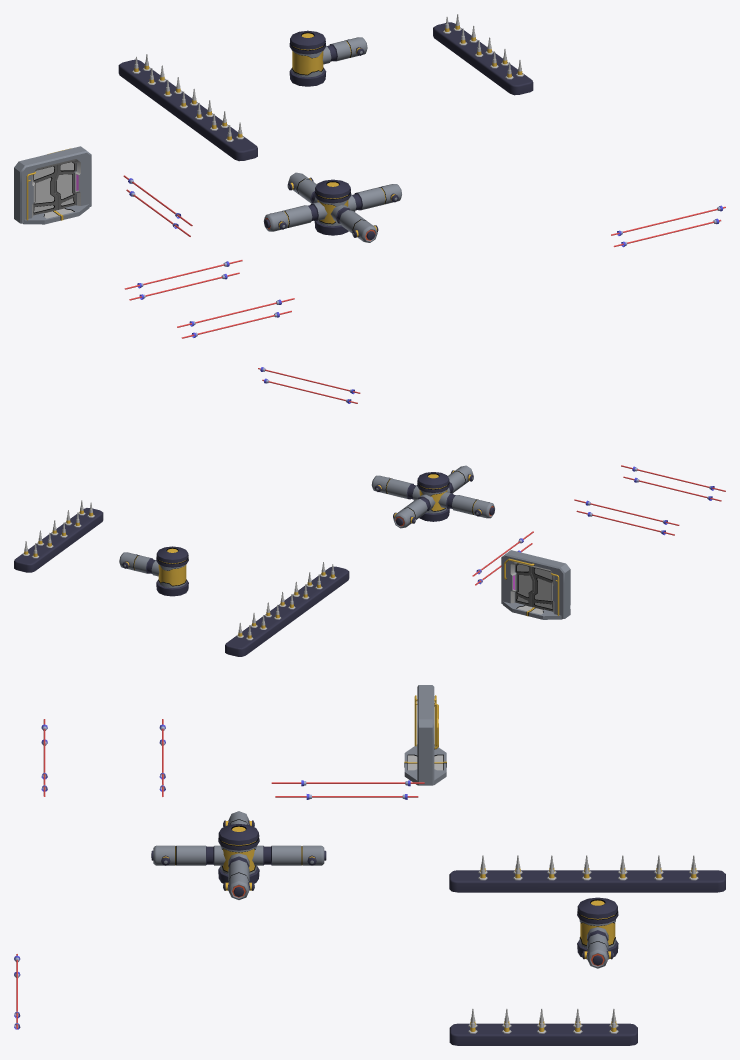
3 views of the same model, one above another, from view 1: azimuth 30°, elevation 25°; view 2: azimuth 150°, elevation 25°; view 3: azimuth 270°, elevation 25° (orthographic). The views are drawn at different scales.
Visible parts, largest first — view 1: Base (×3), pCylinder14 (×5), pCylinder13 (×2), Right, Left, Base5; view 2: Base (×3), pCylinder14 (×4), pCylinder13 (×2), Right, Left, Base5; view 3: Base (×3), pCylinder14 (×4), pCylinder13 (×2), Base5.
Part boxes in pixels (box(x1,y1,x2,y2)): Base (×3): box(14, 22, 533, 223); pCylinder14 (×5): box(263, 37, 401, 242); pCylinder13 (×2): box(289, 30, 351, 235); Right: box(33, 165, 57, 215); Left: box(54, 161, 75, 209); Base5: box(23, 204, 89, 224); Base (×3): box(14, 508, 570, 656); pCylinder14 (×4): box(119, 475, 494, 576); pCylinder13 (×2): box(156, 472, 449, 596); Right: box(531, 566, 553, 611); Left: box(515, 563, 534, 606); Base5: box(503, 601, 562, 619); Base (×3): box(417, 685, 725, 1045); pCylinder14 (×4): box(151, 845, 608, 968); pCylinder13 (×2): box(218, 824, 618, 959); Base5: box(404, 744, 446, 785).
Bounding box in the file's own units: 410 × 46.07 × 416.
